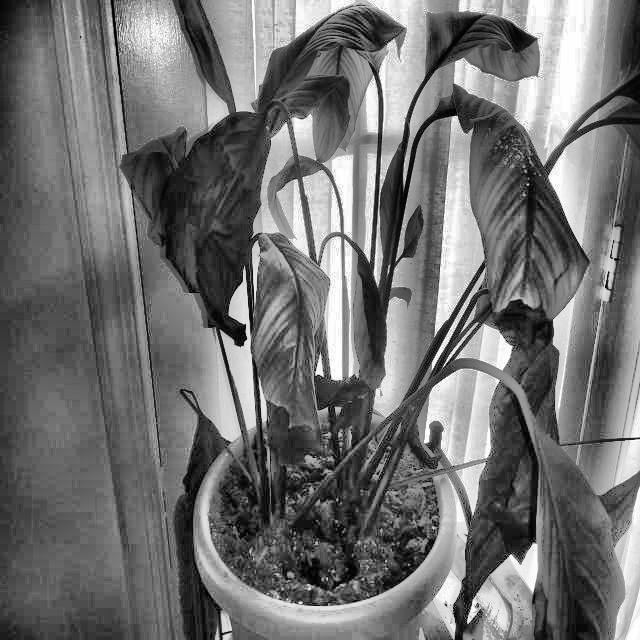plants: (128, 98, 640, 640)
